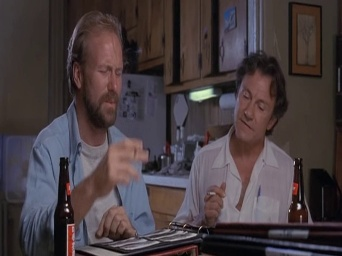smoke: (204, 188, 219, 198)
